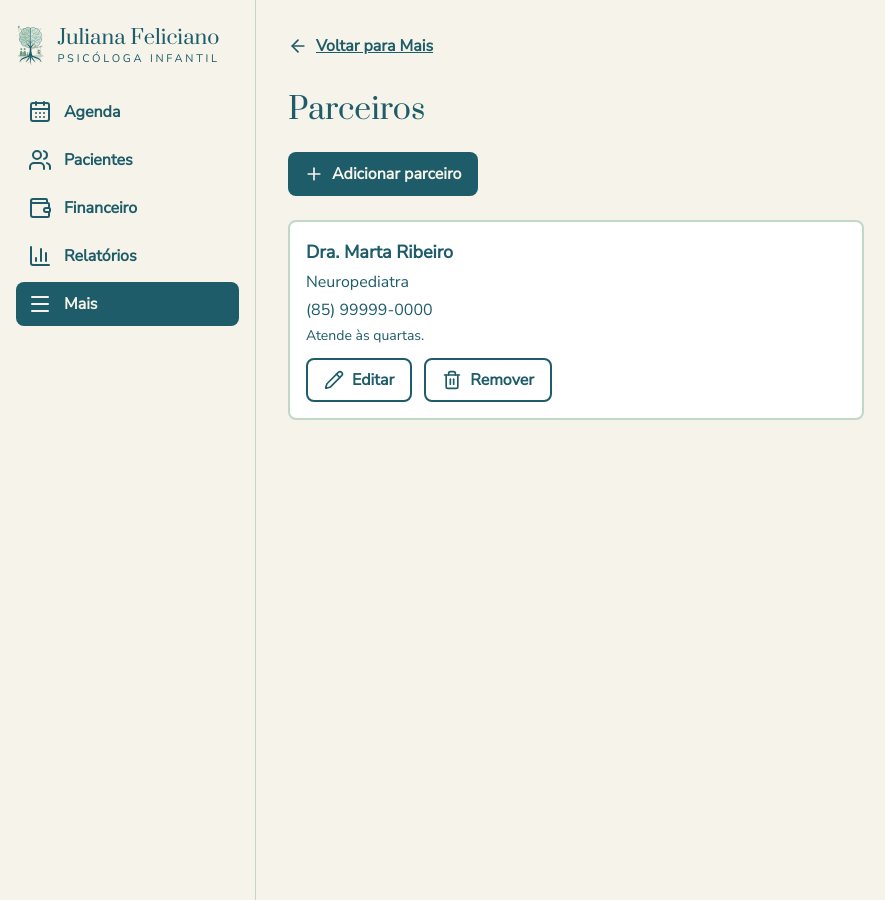
Scenario: TelaParceiros › cancelar a edição volta para a lista sem gravar
Click the button with aria-label "Editar Dra. Marta Ribeiro" at (359, 380), box [306,358,412,402]
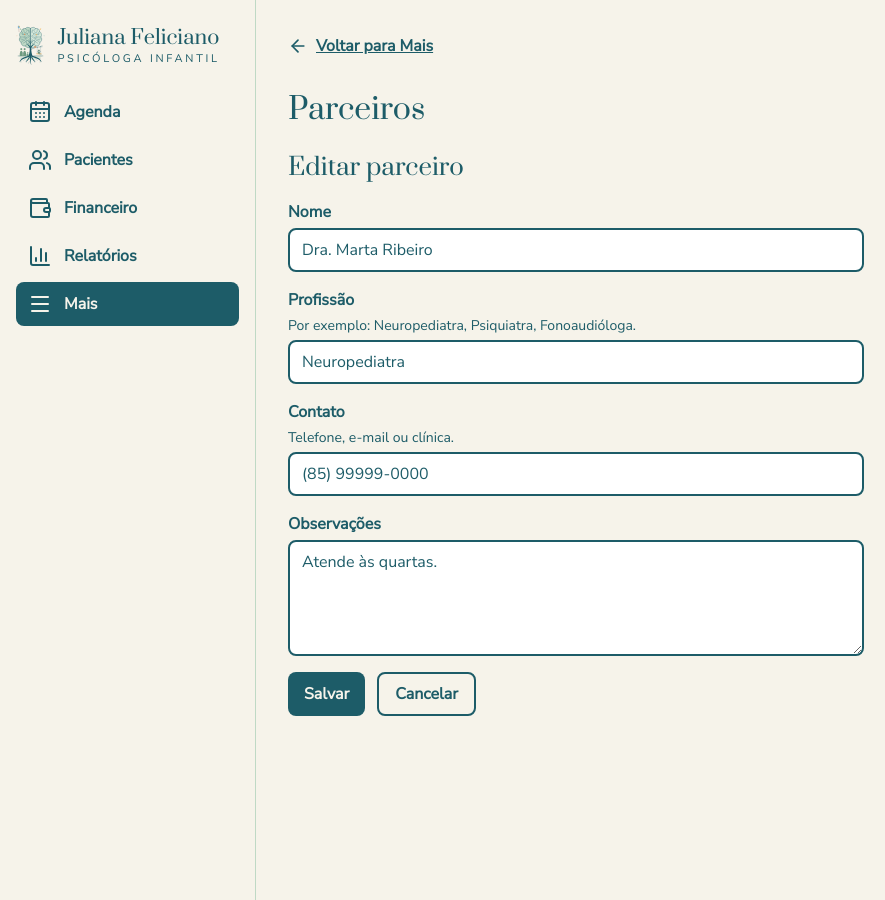
Replace the text in the field labelled "Nome" with "Outro nome" at (576, 250), box [288,228,864,272]
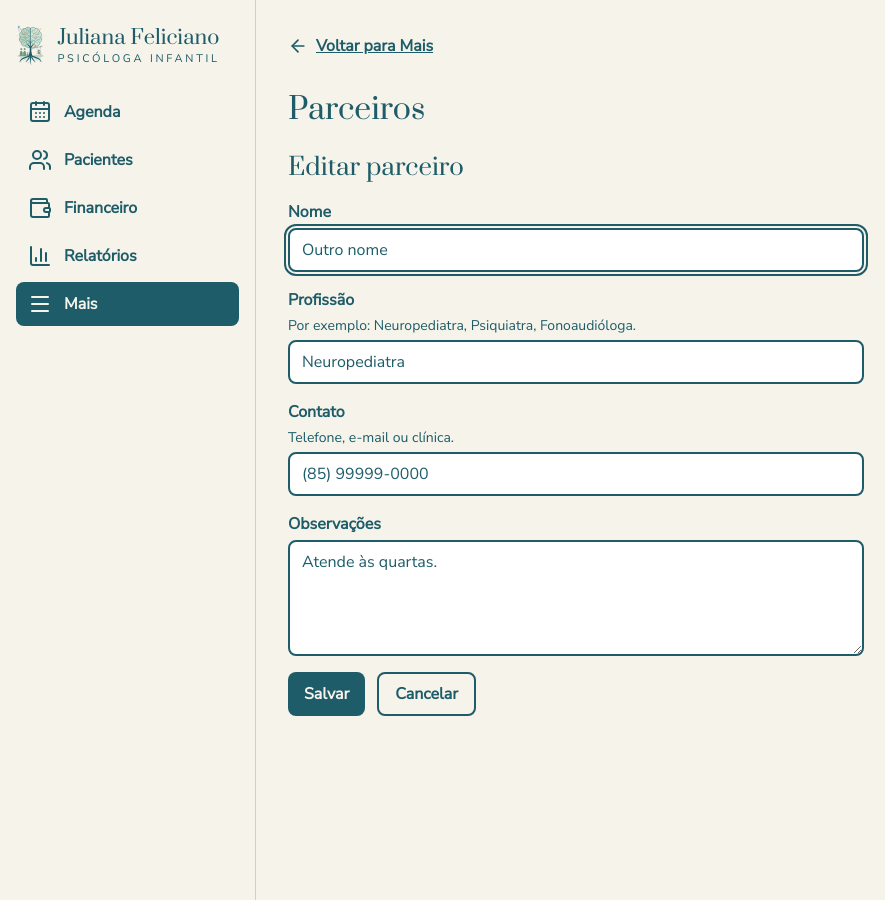
Click the button "Cancelar" at (427, 694), box [377,672,476,716]
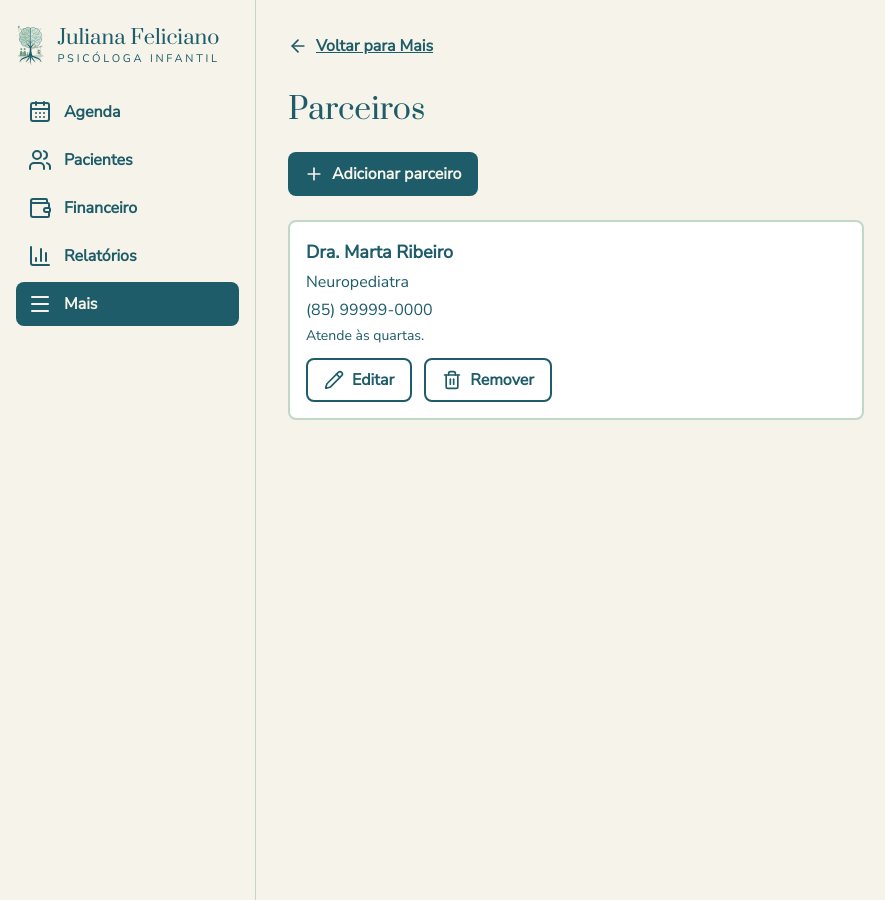
Expected: the list item shows "Dra. Marta Ribeiro", [306,240,453,264]
